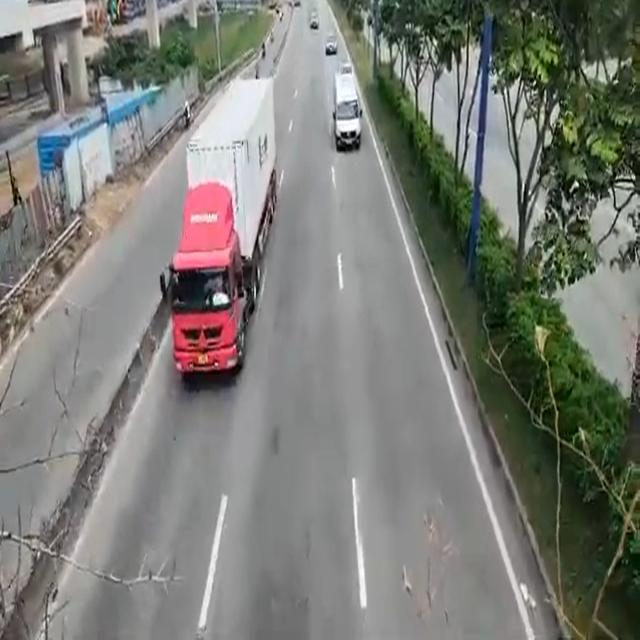bus: (330, 74, 366, 156)
truck: (185, 86, 271, 365)
